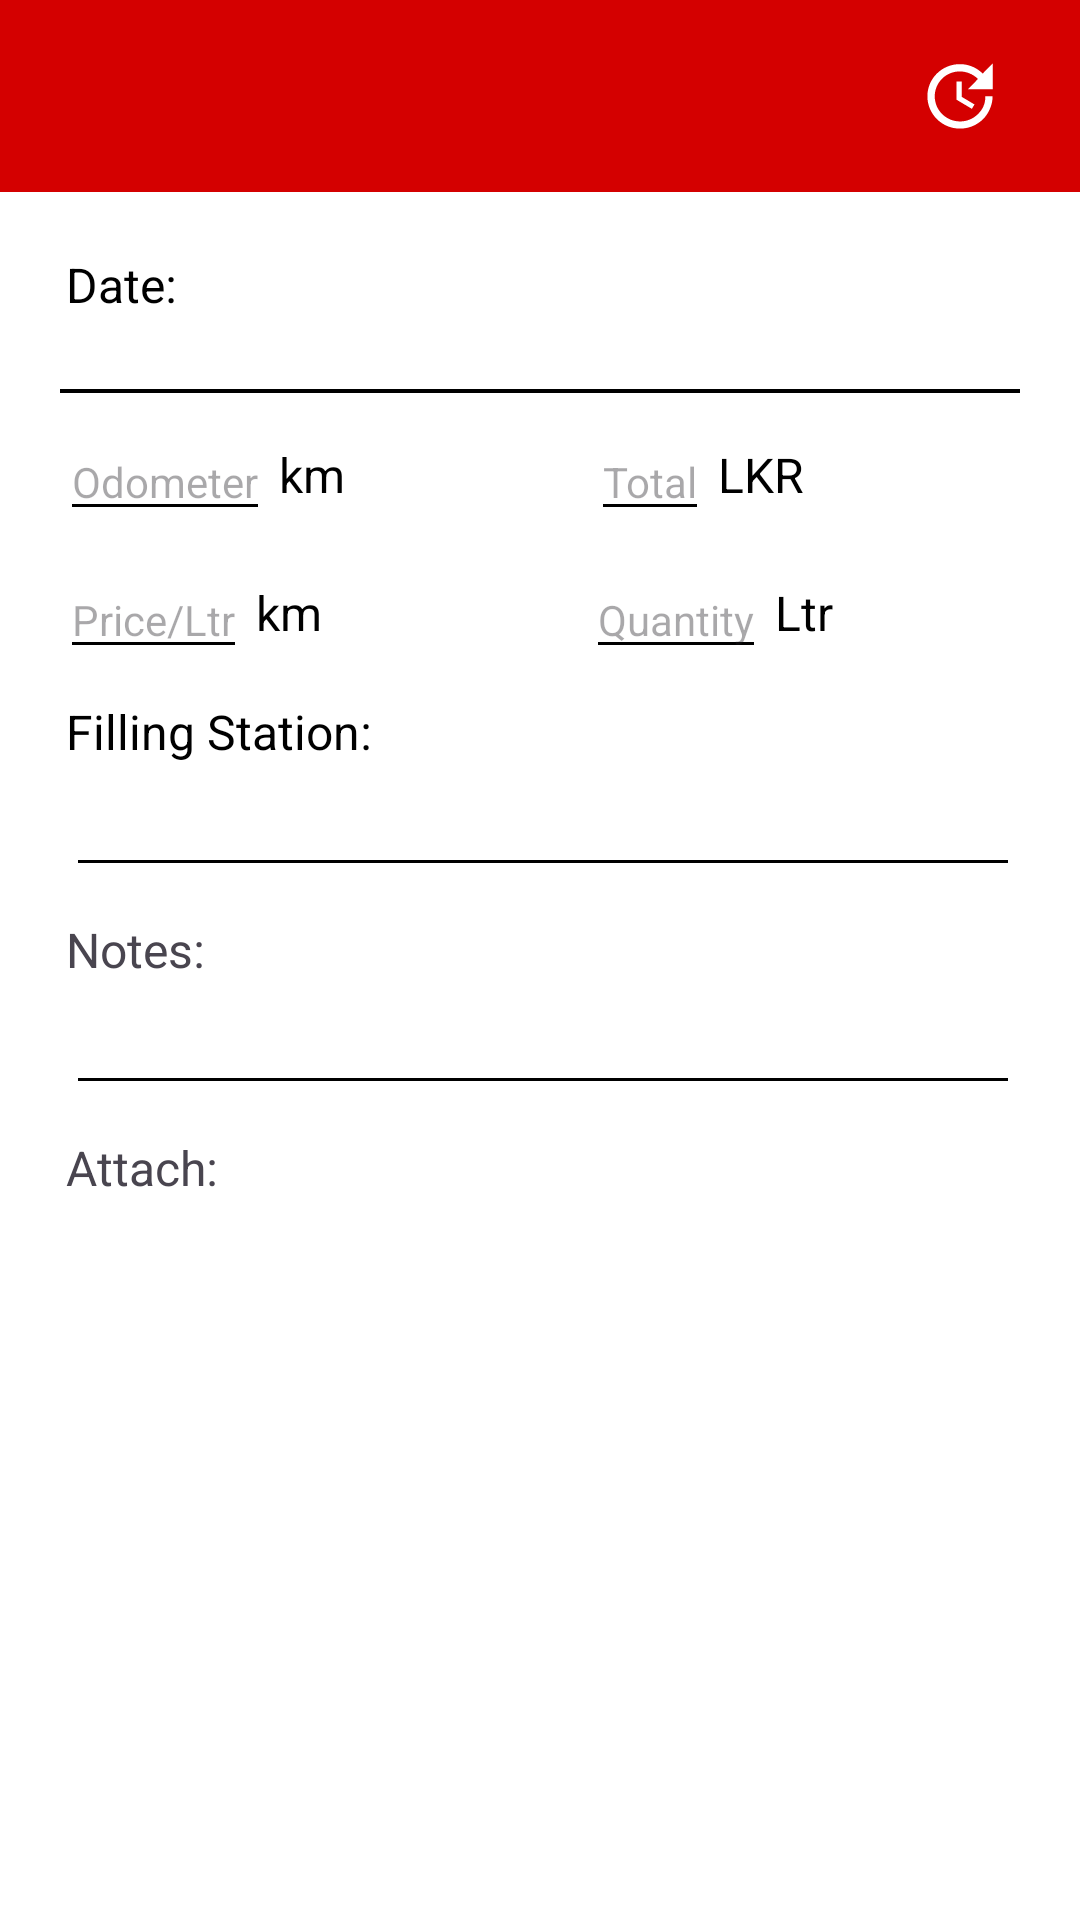

Icon bounding boxes for this 1080 x 1920 phone screenshot, format (x1, y1, x2, y2):
update: (927, 63, 993, 129)
